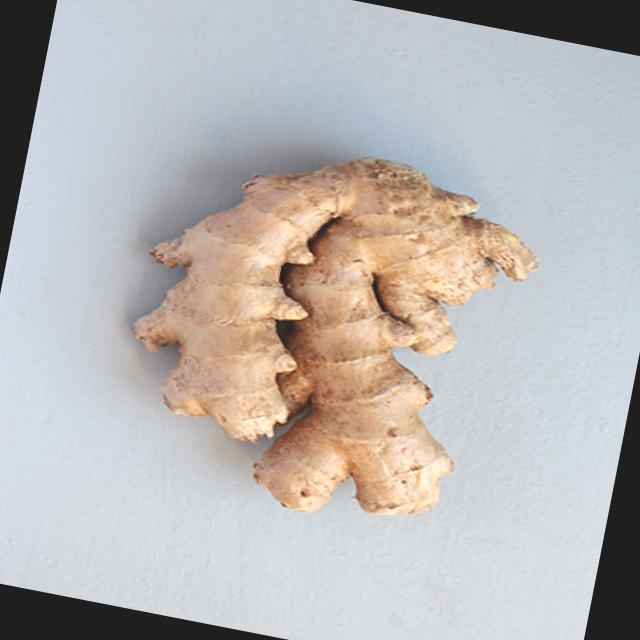ginger-root: (68, 108, 556, 560)
